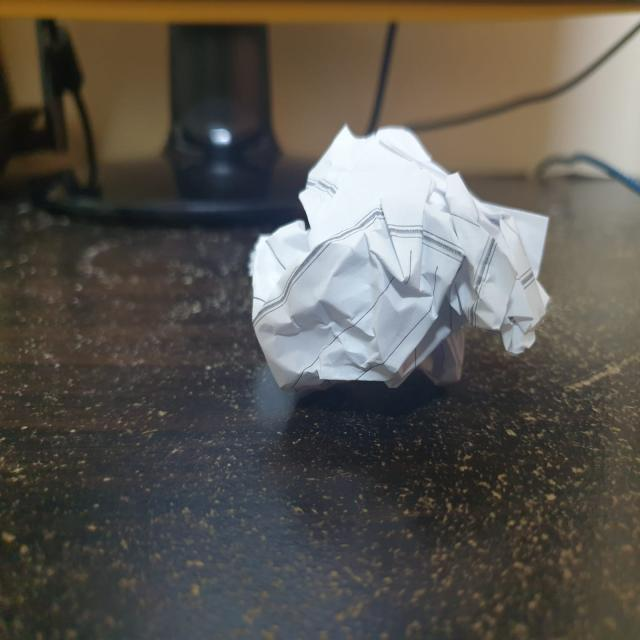Paper: (249, 124, 549, 386)
